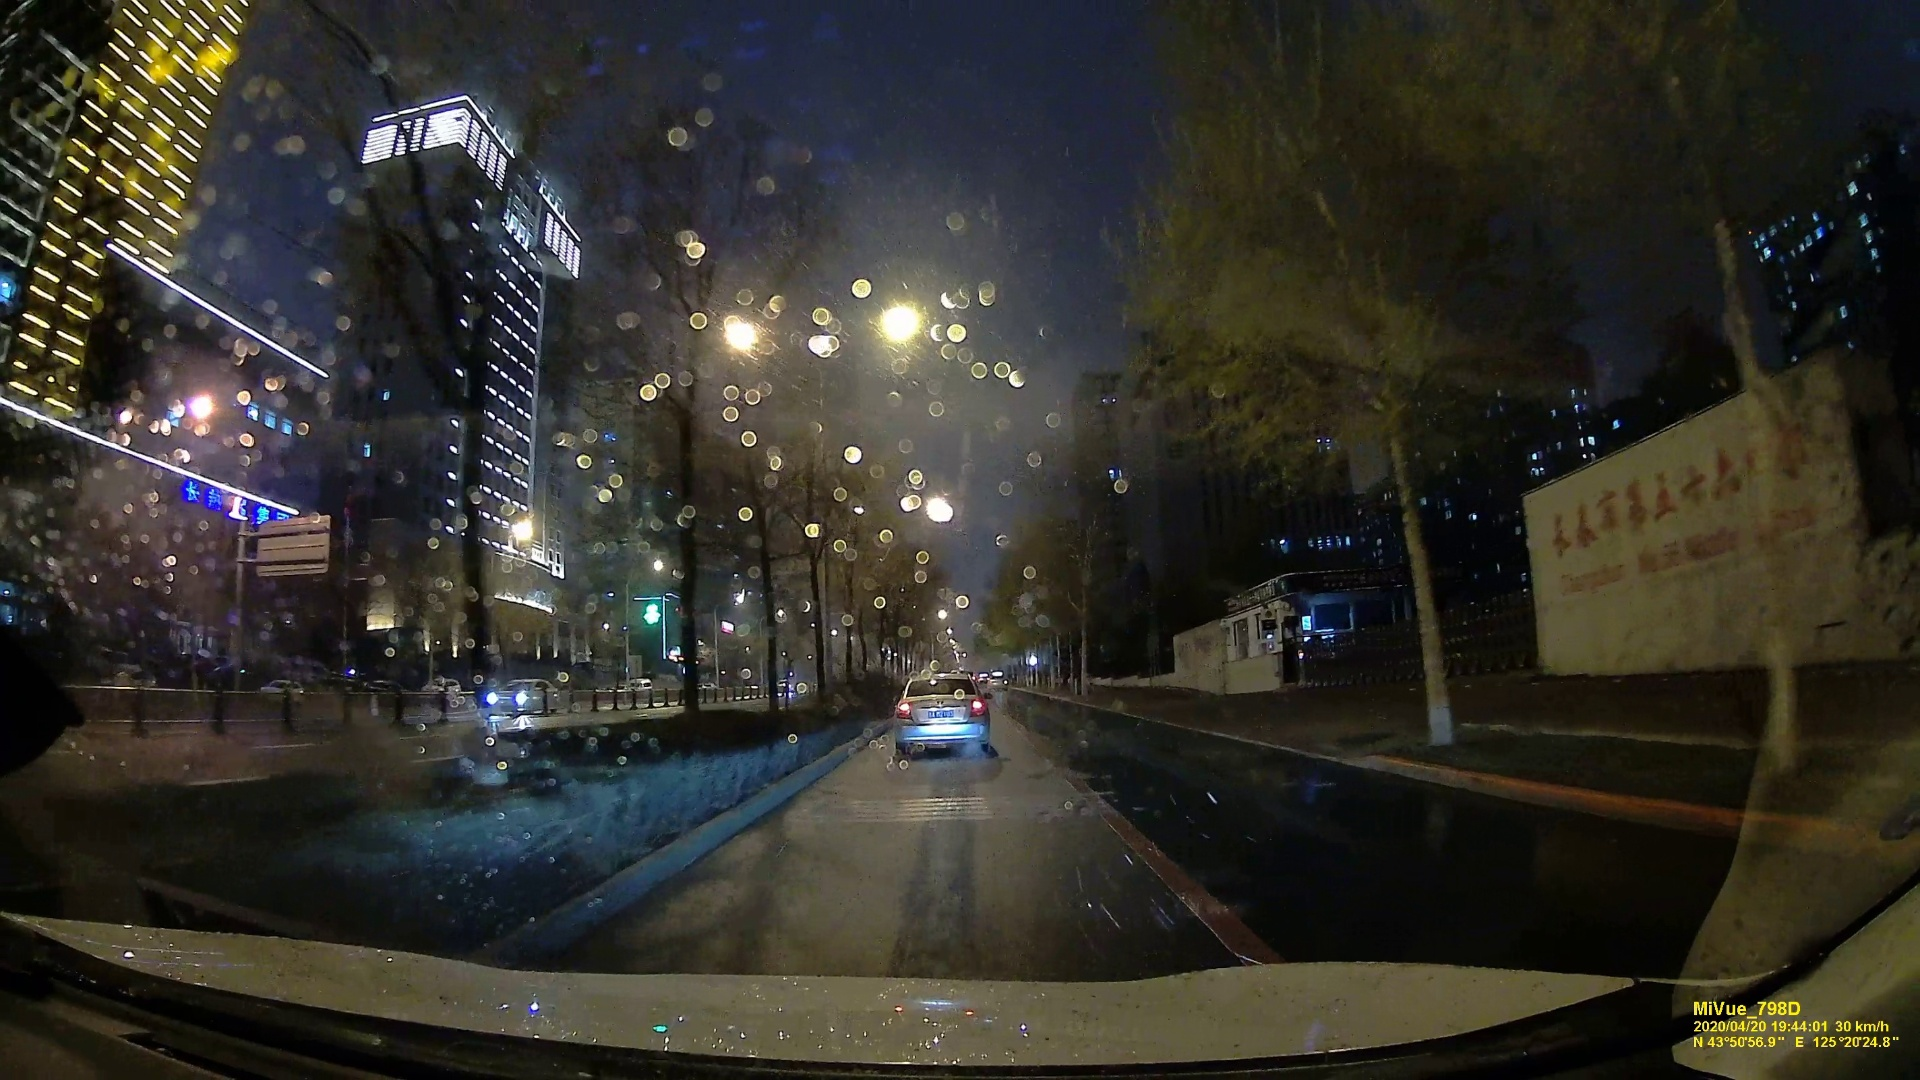vehicle: (891, 669, 994, 764), (476, 679, 549, 712)
